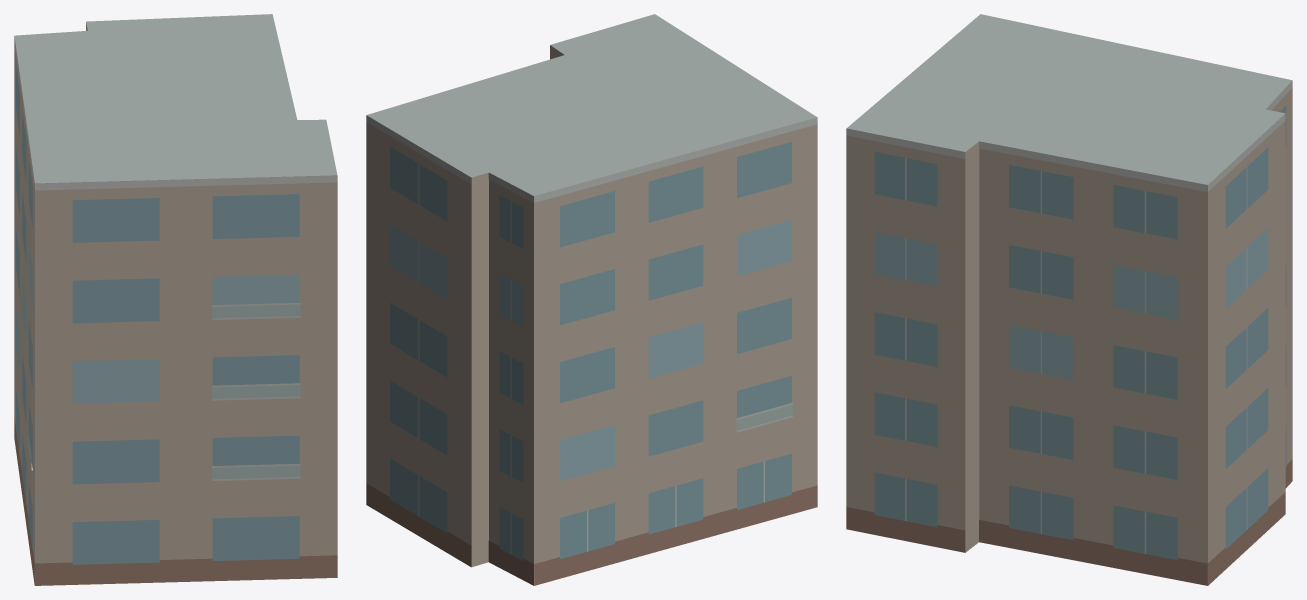
The model's file is survey-upis-32956244.glb.
The picture shows the model from 3 angles, left to right: view 1: azimuth 30°, elevation 25°; view 2: azimuth 150°, elevation 25°; view 3: azimuth 270°, elevation 25°; orthographic projection. The views are drawn at different scales.
Visible parts, largest first — view 1: survey-upis-32956244.tmp; view 2: survey-upis-32956244.tmp; view 3: survey-upis-32956244.tmp.
Boxes of the visible parts, x1,y1,x2,y2 form: survey-upis-32956244.tmp: (14, 14, 337, 585); survey-upis-32956244.tmp: (366, 14, 817, 585); survey-upis-32956244.tmp: (846, 14, 1292, 585).
Size of the model in its own units: 12.64 by 13.8 by 13.93.
